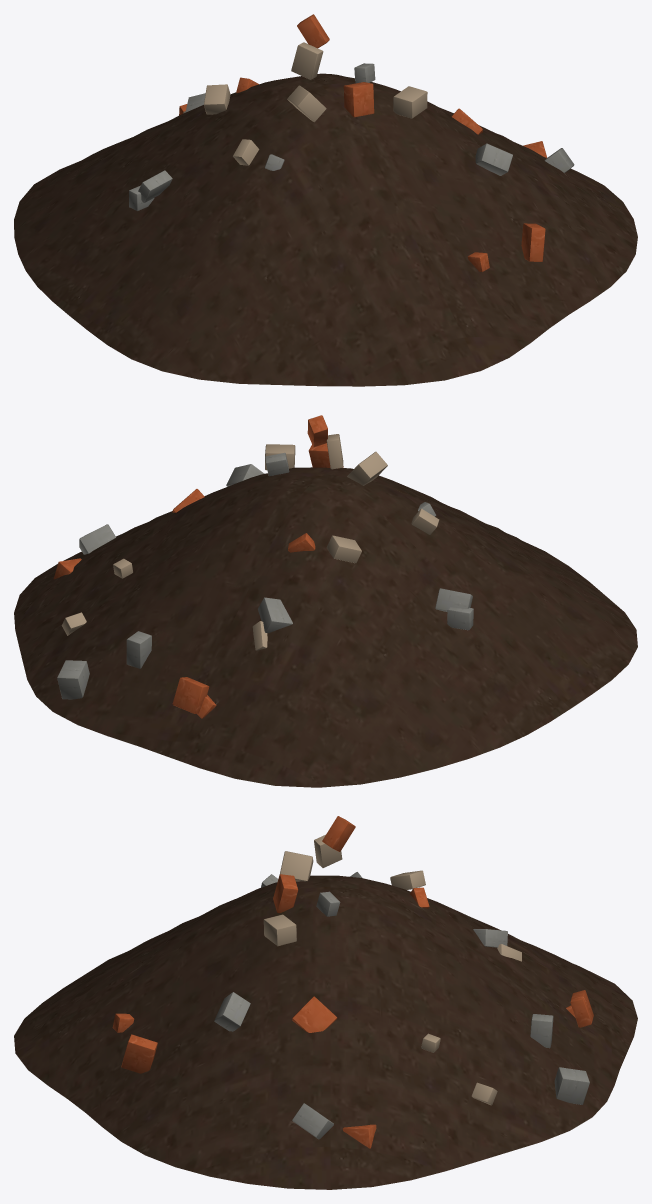
File: TER-SOL-005_lod1.glb
The picture shows the model from 3 angles, top to bottom: view 1: azimuth 30°, elevation 25°; view 2: azimuth 150°, elevation 25°; view 3: azimuth 270°, elevation 25°; orthographic projection.
Parts seen in each view (by area): view 1: TER-SOL-005_monte, TER-SOL-005_caco1, TER-SOL-005_caco17, TER-SOL-005_caco14, TER-SOL-005_caco18, TER-SOL-005_caco10, TER-SOL-005_caco20, TER-SOL-005_caco11, TER-SOL-005_caco16, TER-SOL-005_caco0; view 2: TER-SOL-005_monte, TER-SOL-005_caco12, TER-SOL-005_caco22, TER-SOL-005_caco6, TER-SOL-005_caco3, TER-SOL-005_caco20, TER-SOL-005_caco11, TER-SOL-005_caco0, TER-SOL-005_caco21, TER-SOL-005_caco9, TER-SOL-005_caco16; view 3: TER-SOL-005_monte, TER-SOL-005_caco12, TER-SOL-005_caco10, TER-SOL-005_caco25, TER-SOL-005_caco18, TER-SOL-005_caco17, TER-SOL-005_caco21, TER-SOL-005_caco20, TER-SOL-005_caco1, TER-SOL-005_caco16, TER-SOL-005_caco3, TER-SOL-005_caco22 (+2 smaller).
Boxes of the visible parts, left/top/right/bottom form: TER-SOL-005_monte: left=14, top=73, right=637, bottom=386; TER-SOL-005_caco1: left=343, top=82, right=374, bottom=117; TER-SOL-005_caco17: left=393, top=86, right=427, bottom=118; TER-SOL-005_caco14: left=291, top=42, right=323, bottom=79; TER-SOL-005_caco18: left=475, top=143, right=512, bottom=175; TER-SOL-005_caco10: left=521, top=223, right=545, bottom=261; TER-SOL-005_caco20: left=287, top=85, right=326, bottom=122; TER-SOL-005_caco11: left=204, top=84, right=230, bottom=114; TER-SOL-005_caco16: left=297, top=14, right=329, bottom=48; TER-SOL-005_caco0: left=138, top=170, right=172, bottom=202; TER-SOL-005_monte: left=14, top=467, right=637, bottom=787; TER-SOL-005_caco12: left=57, top=660, right=89, bottom=699; TER-SOL-005_caco22: left=172, top=677, right=209, bottom=713; TER-SOL-005_caco6: left=258, top=597, right=292, bottom=633; TER-SOL-005_caco3: left=126, top=631, right=151, bottom=668; TER-SOL-005_caco20: left=347, top=451, right=387, bottom=485; TER-SOL-005_caco11: left=326, top=535, right=361, bottom=563; TER-SOL-005_caco0: left=435, top=588, right=472, bottom=611; TER-SOL-005_caco21: left=79, top=524, right=115, bottom=554; TER-SOL-005_caco9: left=447, top=607, right=473, bottom=630; TER-SOL-005_caco16: left=307, top=415, right=327, bottom=446; TER-SOL-005_monte: left=14, top=875, right=637, bottom=1189; TER-SOL-005_caco12: left=554, top=1067, right=589, bottom=1104; TER-SOL-005_caco10: left=121, top=1034, right=157, bottom=1073; TER-SOL-005_caco25: left=292, top=996, right=337, bottom=1032; TER-SOL-005_caco18: left=214, top=992, right=250, bottom=1031; TER-SOL-005_caco17: left=263, top=914, right=296, bottom=946; TER-SOL-005_caco21: left=292, top=1103, right=333, bottom=1139; TER-SOL-005_caco20: left=279, top=851, right=313, bottom=881; TER-SOL-005_caco1: left=273, top=874, right=298, bottom=913; TER-SOL-005_caco16: left=322, top=816, right=355, bottom=851; TER-SOL-005_caco3: left=530, top=1014, right=553, bottom=1048; TER-SOL-005_caco22: left=570, top=990, right=593, bottom=1027.
Size of the model in its own units: 1.74 by 0.7335 by 1.78.
Materials: 4 (3 with a texture image).
